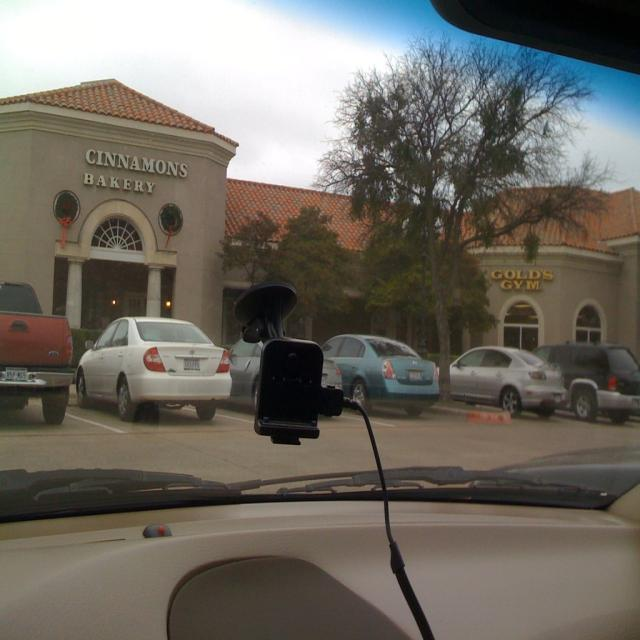car: (73, 307, 238, 437)
